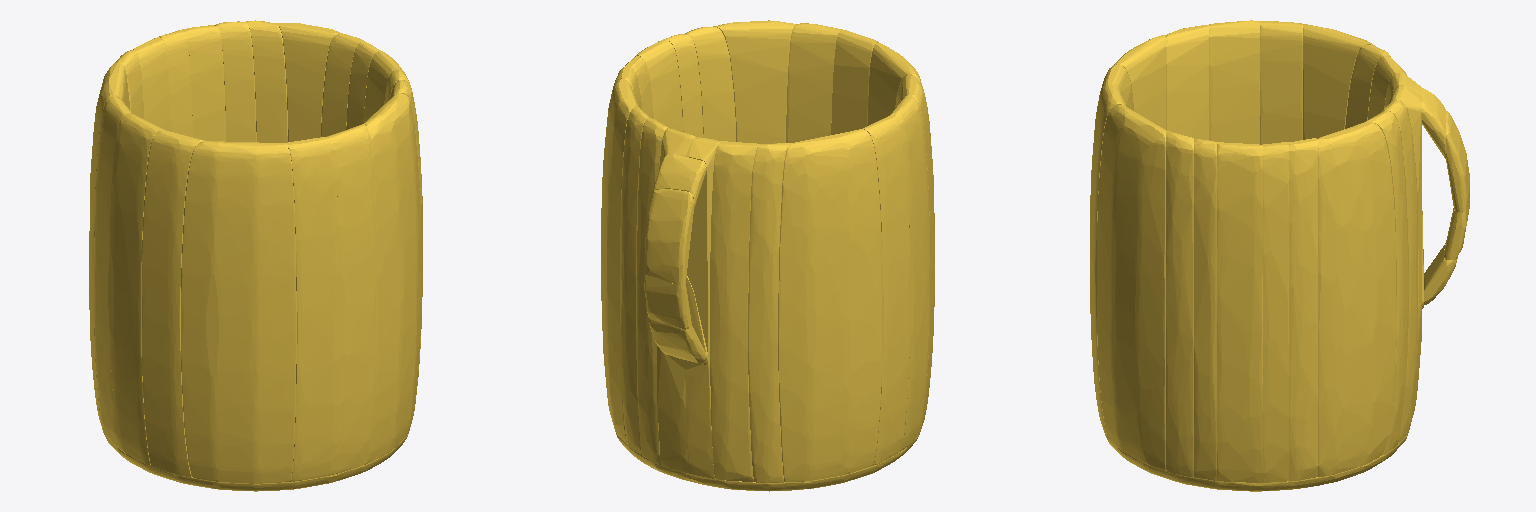
The robot description file, URDF, robot "22.urdf":
<?xml version="1.0" ?>
<robot name="22.urdf">
	<link name="baseLink">
		<inertial>
			<origin rpy="0 0 0" xyz="0 0 0"/>
				<mass value="0.1"/>
				<inertia ixx="6e-5" ixy="0" ixz="0" iyy="6e-5" iyz="0" izz="6e-5"/>
		</inertial>
		<visual>
			<origin rpy="0 0 0" xyz="0 0 0"/>
			<geometry>
				<mesh filename="26_decom_wt.obj" scale="0.90 0.90 1.01"/>
			</geometry>
			<material name="yellow">
				<color rgba="0.98 0.84 0.35 1"/>
			</material>
		</visual>
		<collision>
			<origin rpy="0 0 0" xyz="0 0 0"/>
			<geometry>
				<mesh filename="26_decom_wt.obj" scale="0.90 0.90 1.01"/>
			</geometry>
		</collision>
	</link>
</robot>

--- What the picture shows (computed from the rendered views, not written in the file) ---
The picture shows the robot from 3 angles, left to right: view 1: azimuth 30°, elevation 25°; view 2: azimuth 150°, elevation 25°; view 3: azimuth 270°, elevation 25°; orthographic projection.
Model 22.urdf with 1 links and 0 joints (none), rooted at baseLink, posed all joints at 0.
Links seen in each view (by area): view 1: baseLink; view 2: baseLink; view 3: baseLink.
Boxes of the visible links, box(x1,y1,x2,y2) form: baseLink: box(89, 20, 422, 491); baseLink: box(601, 20, 934, 491); baseLink: box(1090, 20, 1469, 491).
Bounding box of the posed robot: 0.0988 × 0.1127 × 0.1135 m (x, y, z).
1 mesh visuals loaded from 1 distinct referenced files (1 OBJ).